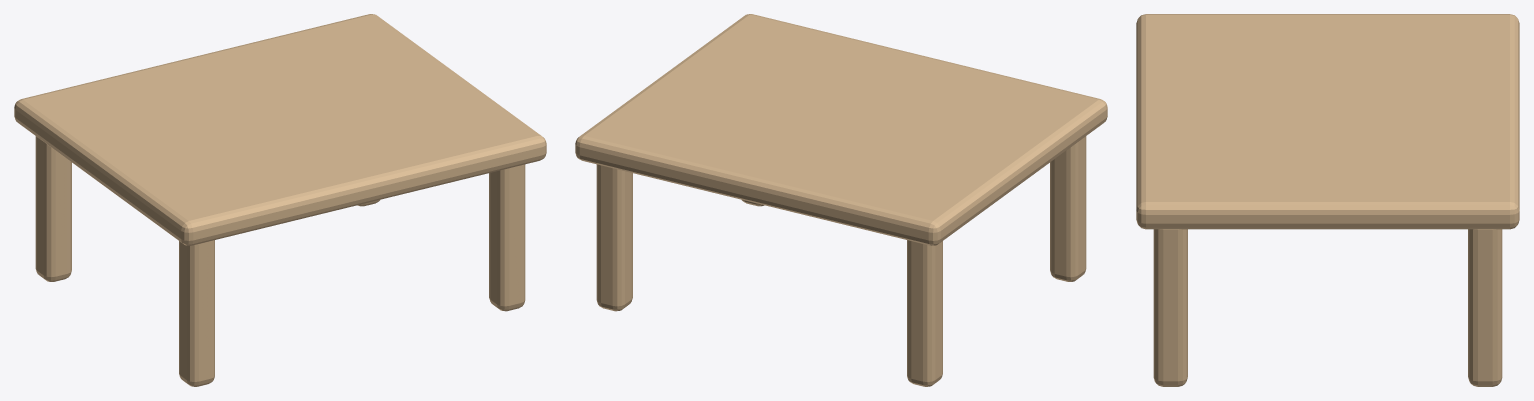
Rendered from CoffeeTable.fbx.
The picture shows the model from 3 angles, left to right: view 1: azimuth 30°, elevation 25°; view 2: azimuth 150°, elevation 25°; view 3: azimuth 270°, elevation 25°; orthographic projection. The views are drawn at different scales.
Parts seen in each view (by area): view 1: CoffeeTable; view 2: CoffeeTable; view 3: CoffeeTable.
Part boxes in pixels (x1,y1,x2,y2): CoffeeTable: (14, 14, 546, 386); CoffeeTable: (575, 14, 1107, 386); CoffeeTable: (1136, 14, 1519, 386).
Size of the model in its own units: 0.94 by 0.43 by 0.78.
